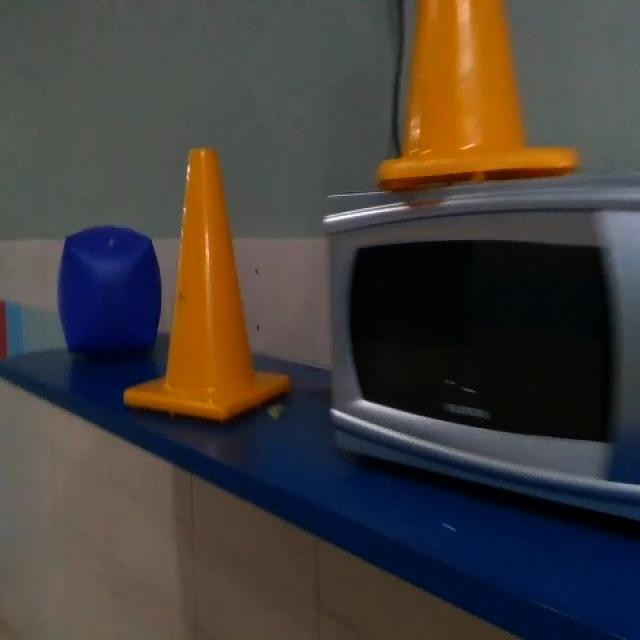cone: (124, 146, 292, 422), (373, 0, 579, 190)
cube: (58, 225, 162, 356)
